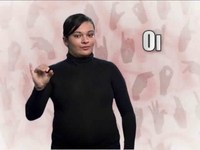oi: (28, 62, 54, 89)
